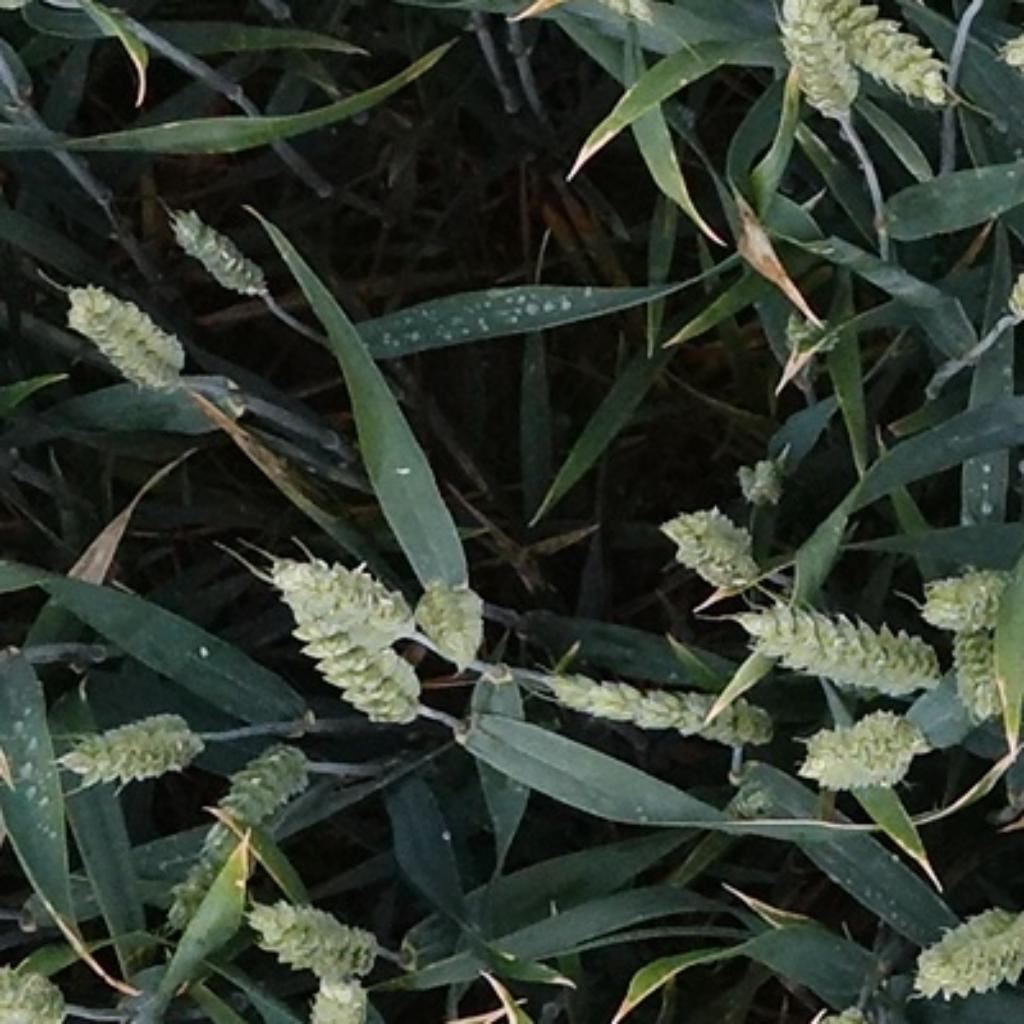0-0: (166, 729, 314, 936), (272, 572, 428, 733), (742, 591, 948, 709), (536, 660, 783, 757), (250, 535, 427, 652), (48, 698, 209, 805), (824, 0, 965, 120), (55, 275, 188, 393), (902, 880, 1024, 1007), (243, 883, 386, 977), (762, 0, 867, 125), (792, 708, 928, 798), (163, 202, 279, 304), (652, 506, 757, 599), (414, 565, 492, 685), (942, 616, 1013, 733), (916, 555, 1021, 627), (1, 943, 86, 1024), (729, 445, 799, 514), (295, 966, 379, 1023)
